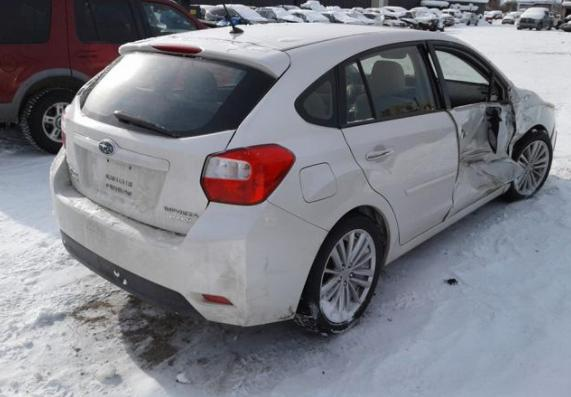Back-bumper: (49, 145, 329, 328)
Back-door: (335, 41, 458, 244)
Back-wheel: (293, 214, 384, 336)
Back-window: (359, 46, 437, 117), (346, 61, 373, 121), (302, 80, 333, 119)
Back-windshield: (79, 52, 276, 137)
Fender: (509, 88, 556, 157)
Front-bumper: (550, 125, 558, 150)
Front-door: (424, 39, 524, 219)
Front-wheel: (501, 132, 553, 199)
Quarter-panel: (225, 107, 400, 249)
Rocker-panel: (385, 184, 511, 266)
Roof: (164, 22, 419, 51)
Tail-light: (200, 144, 296, 206), (61, 110, 66, 148)
Trunk: (65, 36, 290, 236)
